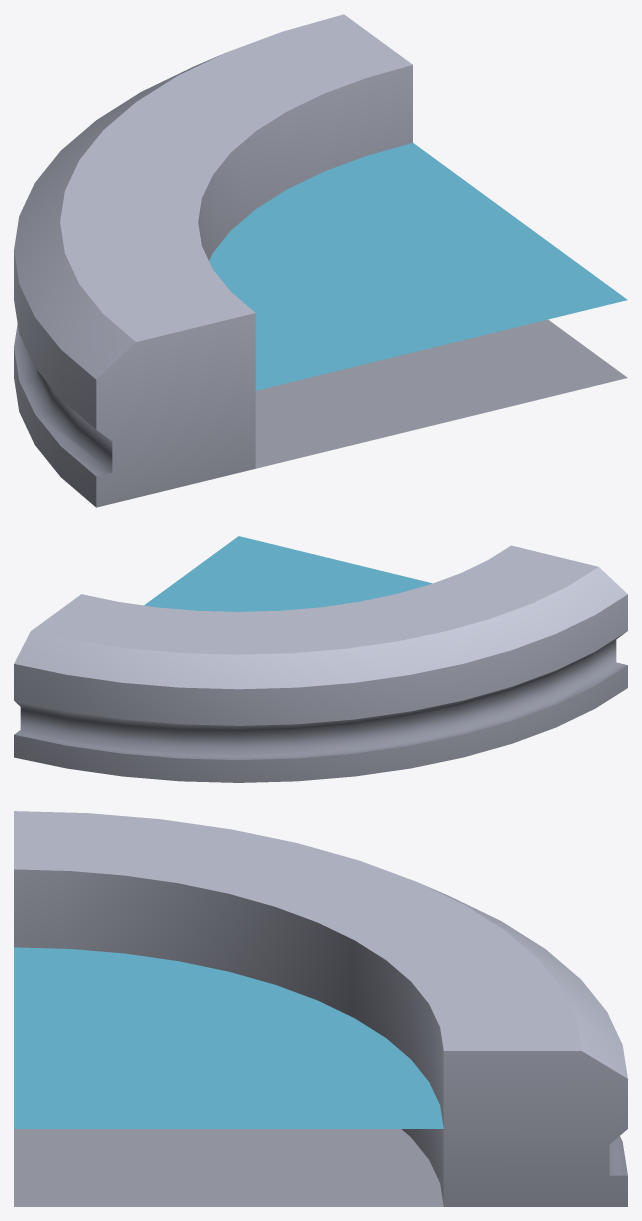
The model's file is fountain-curved.glb.
3 views of the same model, one above another, from view 1: azimuth 30°, elevation 25°; view 2: azimuth 150°, elevation 25°; view 3: azimuth 270°, elevation 25° (orthographic). The views are drawn at different scales.
Parts seen in each view (by area): view 1: fountain-curved; view 2: fountain-curved; view 3: fountain-curved.
Boxes of the visible parts, box(x1,y1,x2,y2) form: fountain-curved: box(14, 14, 627, 507); fountain-curved: box(14, 536, 627, 782); fountain-curved: box(14, 811, 627, 1206).
Bounding box in the file's own units: 1 × 0.28 × 1.
